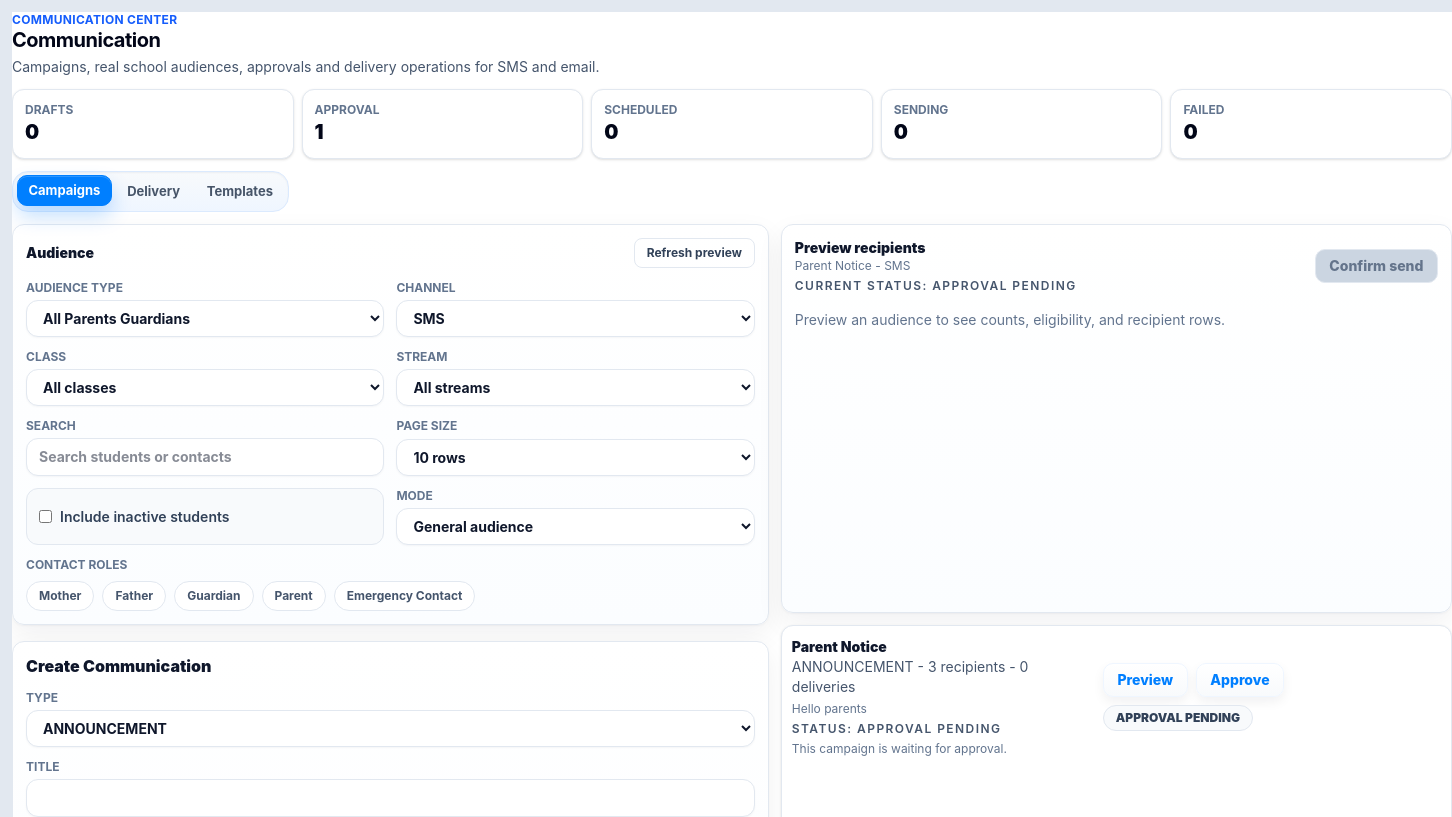
Scenario: CommunicationsPage › shows backend-safe approval errors with request references
Click the button "Approve" at (1240, 680), box [1196,662,1284,696]
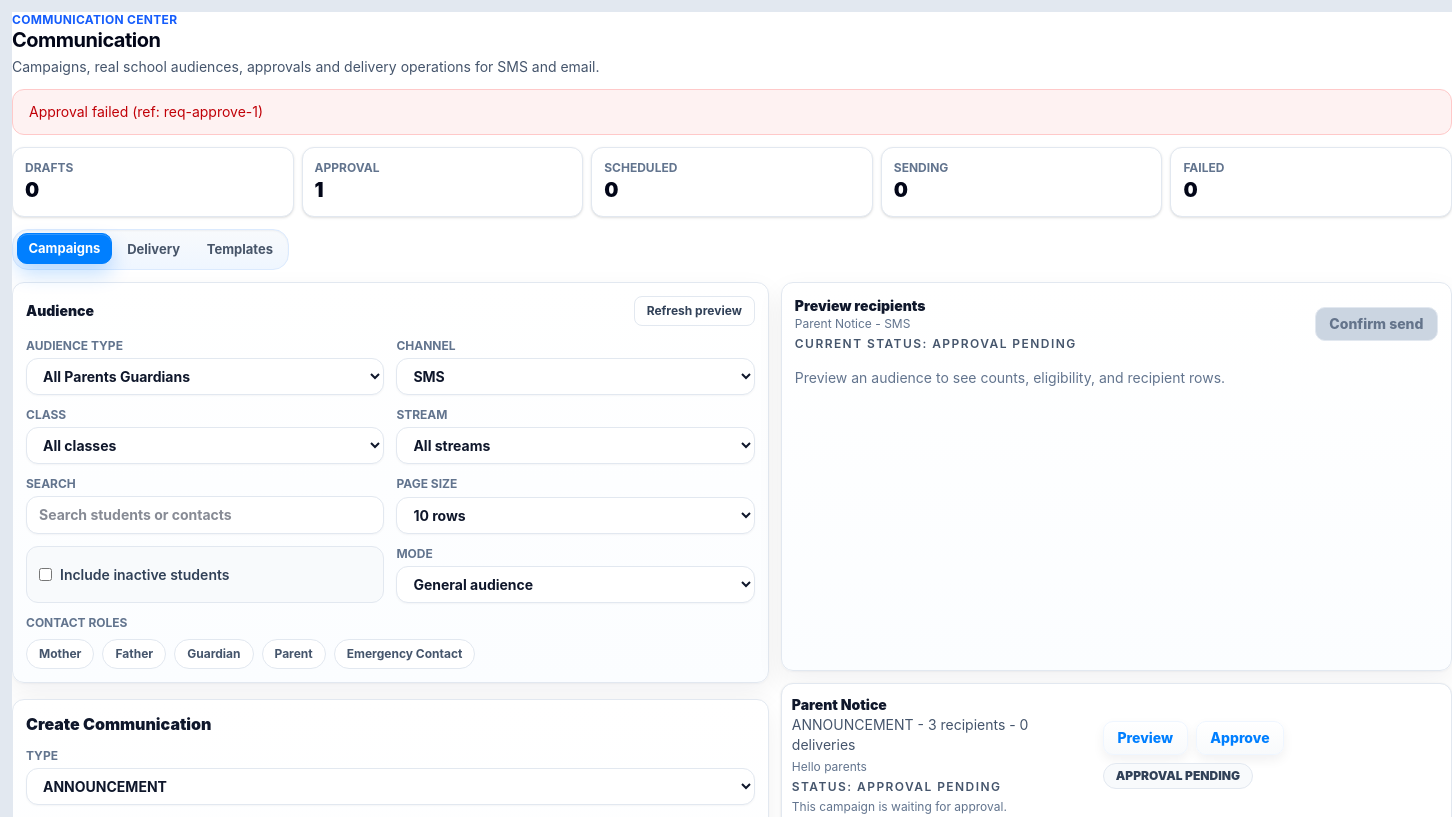
expect the text "Approval failed (ref: req-approve-1)" is shown: met, box [29,102,263,122]
